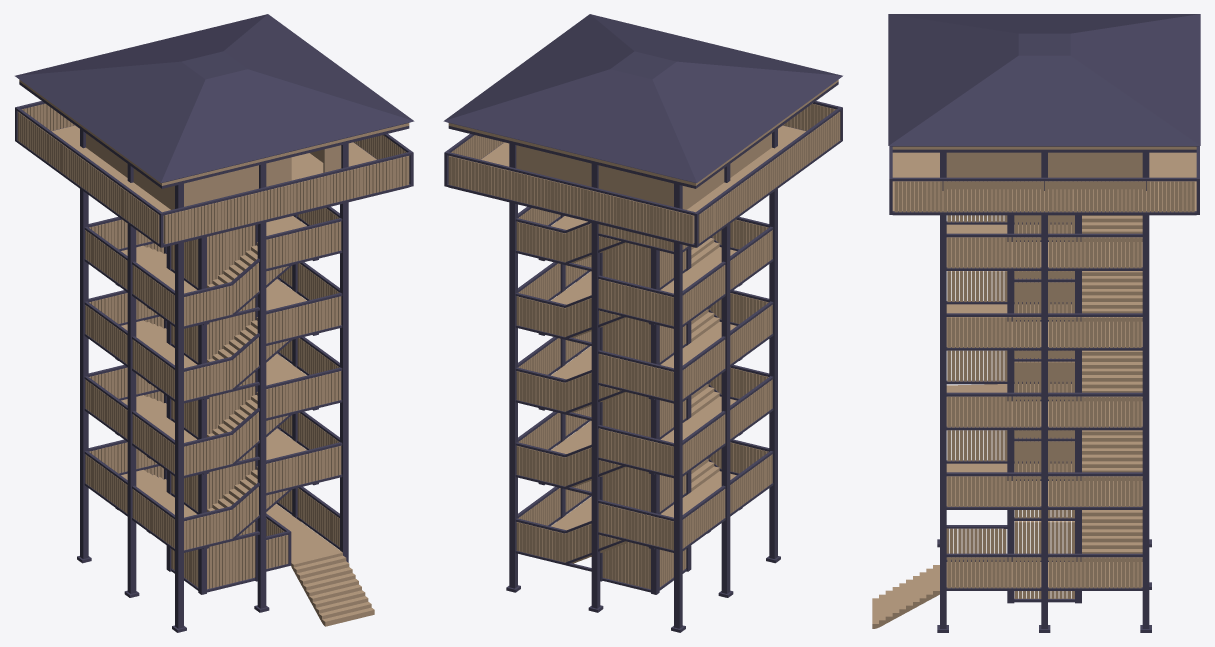
Rendered from Puisto_Lintutorni_LOD0.fbx.
3 renders of one model, left to right at view 1: azimuth 30°, elevation 25°; view 2: azimuth 150°, elevation 25°; view 3: azimuth 270°, elevation 25°, orthographic. The views are drawn at different scales.
Visible parts, largest first — view 1: LintuTorni; view 2: LintuTorni; view 3: LintuTorni.
Boxes of the visible parts, x1=… form: LintuTorni: x1=15, y1=14, x2=414, y2=632; LintuTorni: x1=443, y1=14, x2=842, y2=632; LintuTorni: x1=872, y1=14, x2=1200, y2=632.
Size of the model in its own units: 924 by 1773 by 972.
